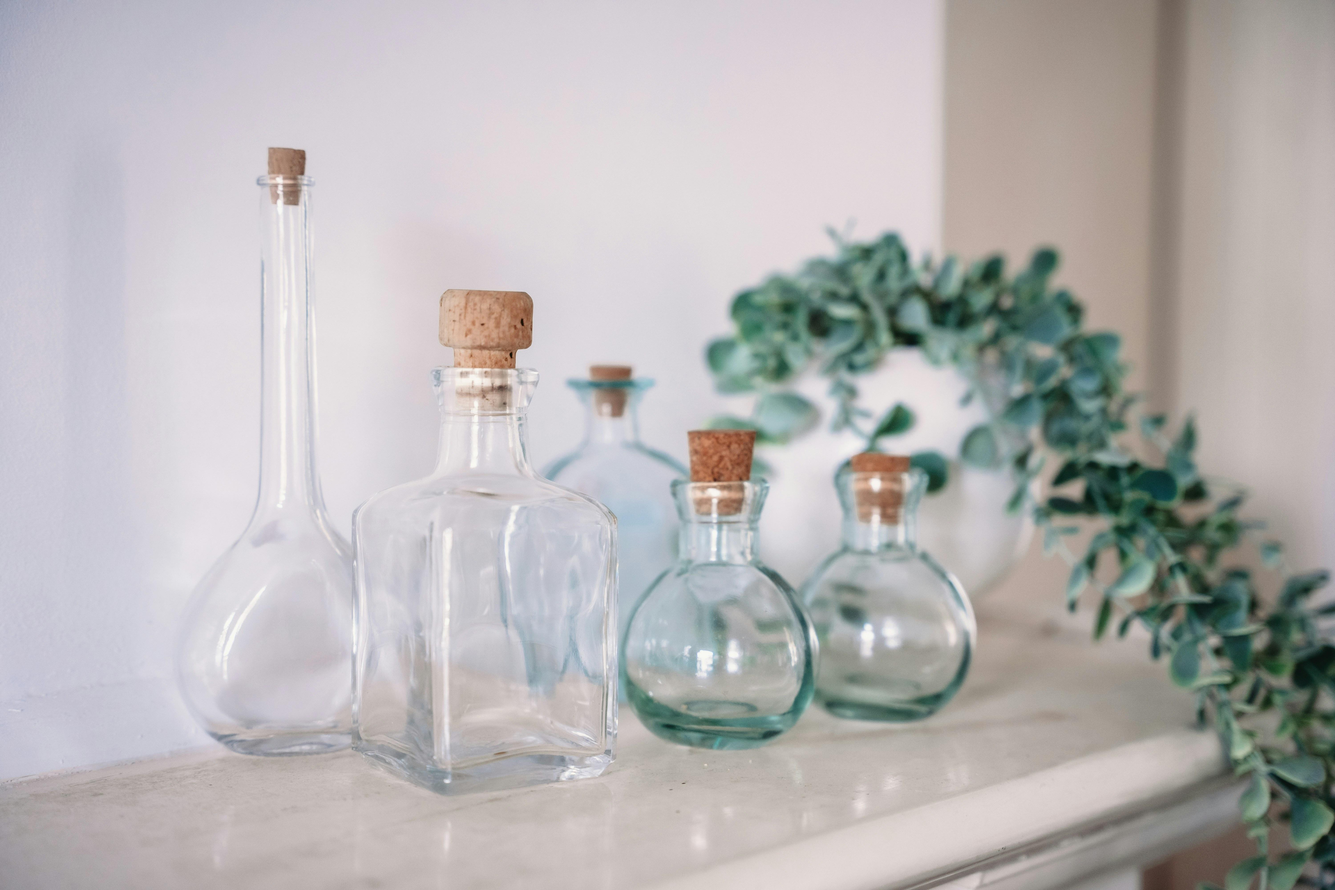Bottle-Detection: (147, 102, 374, 803), (358, 269, 641, 821), (623, 389, 819, 765), (781, 434, 1003, 759), (534, 329, 719, 694)
